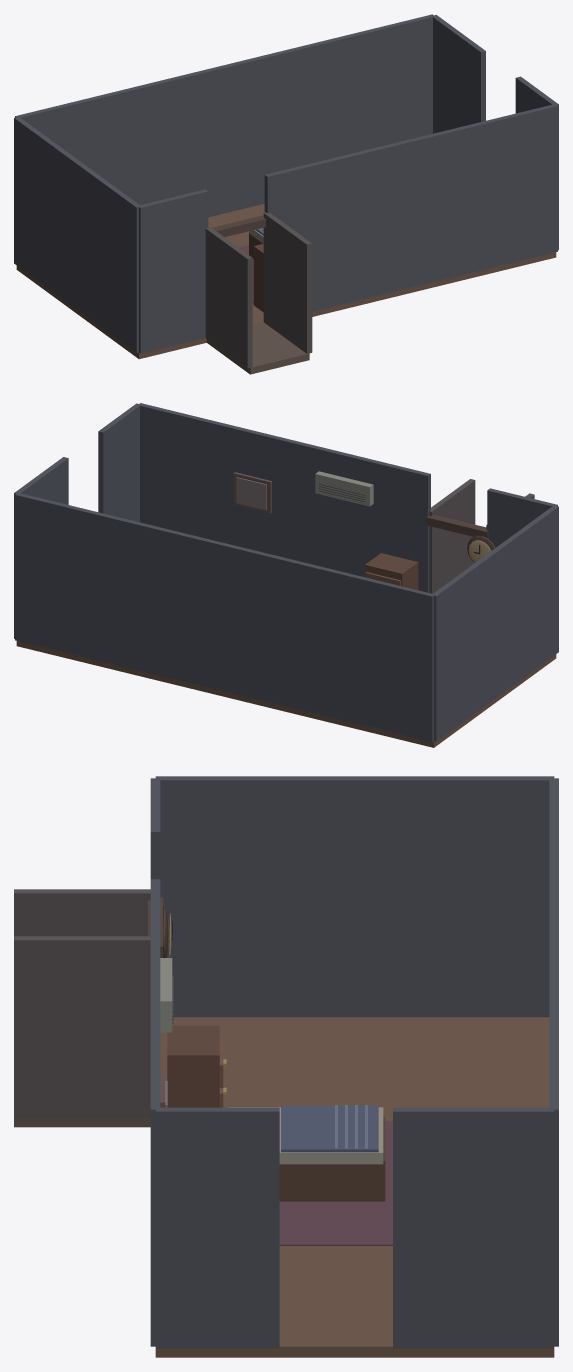
File: cuartoCustom.obj
3 views of the same model, one above another, from view 1: azimuth 30°, elevation 25°; view 2: azimuth 150°, elevation 25°; view 3: azimuth 270°, elevation 25° (orthographic). The views are drawn at different scales.
Parts seen in each view (by area): view 1: cuartoCustom_original_11, cuartoCustom_original_14, cuartoCustom_original_12, cuartoCustom_original_13, cuartoCustom_original_18, cuartoCustom_original_17, cuartoCustom_original_15, cuartoCustom_original_9, cuartoCustom_original_10, cuartoCustom_original_decor_000, cuartoCustom_original_16, cuartoCustom_original_20; view 2: cuartoCustom_original_11, cuartoCustom_original_14, cuartoCustom_original_12, cuartoCustom_original_decor_000, cuartoCustom_original_16, cuartoCustom_original_18, cuartoCustom_original_9, cuartoCustom_original_13, cuartoCustom_original_15, cuartoCustom_original_20; view 3: cuartoCustom_original_12, cuartoCustom_original_9, cuartoCustom_original_15, cuartoCustom_original_16, cuartoCustom_original_18, cuartoCustom_original_decor_000, cuartoCustom_original_17, cuartoCustom_original_11, cuartoCustom_original_20, cuartoCustom_original_19, cuartoCustom_original_14, cuartoCustom_original_10 (+1 smaller).
Boxes of the visible parts, bbox=[...] form: cuartoCustom_original_11: bbox=[15, 14, 434, 217]; cuartoCustom_original_14: bbox=[264, 104, 557, 311]; cuartoCustom_original_12: bbox=[14, 116, 140, 352]; cuartoCustom_original_13: bbox=[139, 189, 208, 353]; cuartoCustom_original_18: bbox=[263, 212, 312, 353]; cuartoCustom_original_17: bbox=[205, 226, 252, 368]; cuartoCustom_original_15: bbox=[433, 15, 485, 133]; cuartoCustom_original_9: bbox=[16, 204, 556, 359]; cuartoCustom_original_10: bbox=[206, 322, 309, 374]; cuartoCustom_original_decor_000: bbox=[208, 200, 265, 303]; cuartoCustom_original_16: bbox=[515, 76, 558, 250]; cuartoCustom_original_20: bbox=[253, 243, 263, 312]; cuartoCustom_original_11: bbox=[15, 492, 433, 742]; cuartoCustom_original_14: bbox=[138, 403, 430, 592]; cuartoCustom_original_12: bbox=[432, 505, 558, 741]; cuartoCustom_original_decor_000: bbox=[15, 471, 495, 741]; cuartoCustom_original_16: bbox=[98, 403, 139, 522]; cuartoCustom_original_18: bbox=[429, 479, 475, 593]; cuartoCustom_original_9: bbox=[16, 641, 556, 747]; cuartoCustom_original_13: bbox=[487, 488, 557, 547]; cuartoCustom_original_15: bbox=[14, 457, 68, 638]; cuartoCustom_original_20: bbox=[365, 553, 418, 589]; cuartoCustom_original_12: bbox=[155, 776, 554, 1017]; cuartoCustom_original_9: bbox=[155, 1017, 554, 1357]; cuartoCustom_original_15: bbox=[393, 1107, 554, 1348]; cuartoCustom_original_16: bbox=[155, 1107, 279, 1348]; cuartoCustom_original_18: bbox=[14, 936, 150, 1117]; cuartoCustom_original_decor_000: bbox=[148, 897, 558, 1346]; cuartoCustom_original_17: bbox=[14, 889, 150, 936]; cuartoCustom_original_11: bbox=[549, 778, 558, 1346]; cuartoCustom_original_20: bbox=[167, 1025, 219, 1107]; cuartoCustom_original_19: bbox=[279, 1116, 385, 1201]; cuartoCustom_original_14: bbox=[150, 879, 160, 1346]; cuartoCustom_original_10: bbox=[14, 1118, 150, 1127].
Size of the model in its own units: 18.22 by 6.28 by 12.51.
